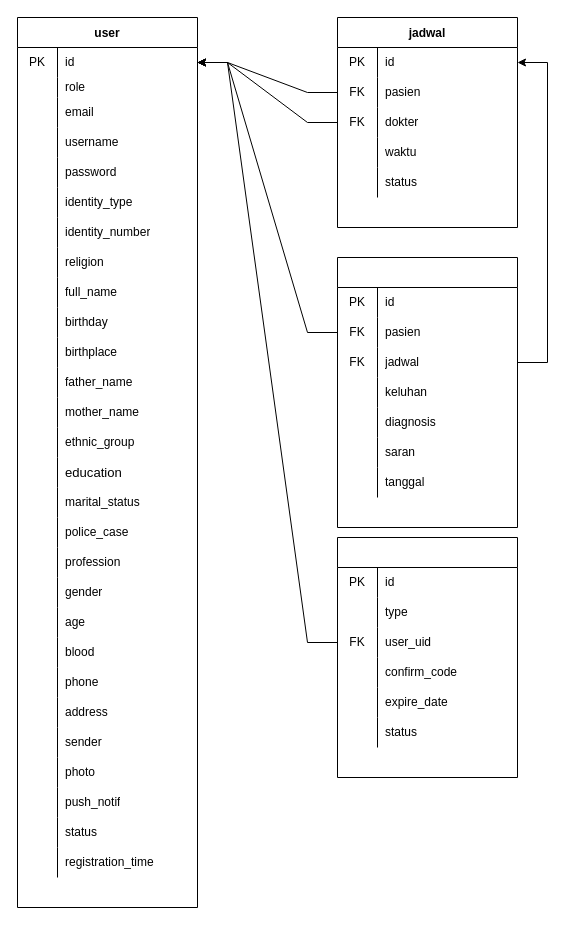
This 573x925 diagram has some shape labels left out. Here are the shapes that lost their labels. From the top down, the box of each, then its label:
(336, 256, 518, 528): rekam-medis
(336, 536, 518, 778): email_confirm
